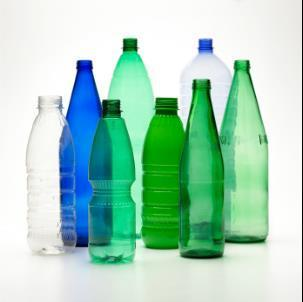Rec_Plastic: (94, 23, 158, 226), (54, 57, 120, 245), (20, 89, 81, 258), (80, 101, 144, 262), (180, 30, 234, 211), (184, 76, 230, 268), (217, 61, 265, 244), (140, 91, 182, 248)
